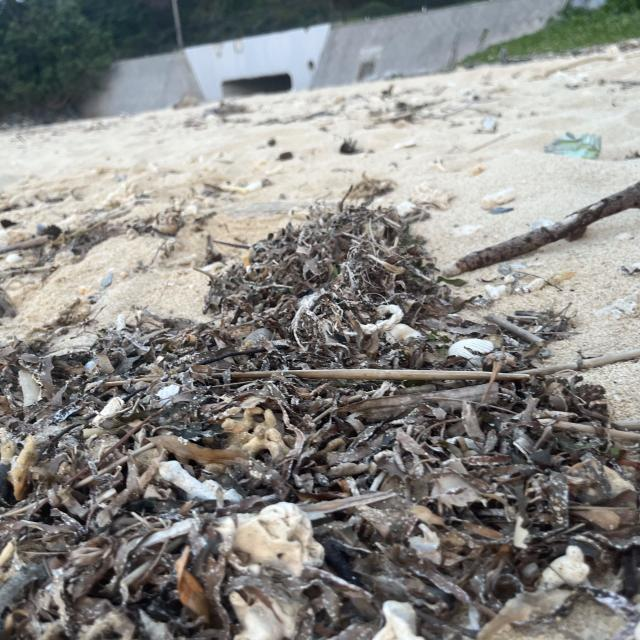seaweed: (8, 180, 640, 640)
stick: (451, 178, 640, 284)
trash: (542, 125, 607, 167)
